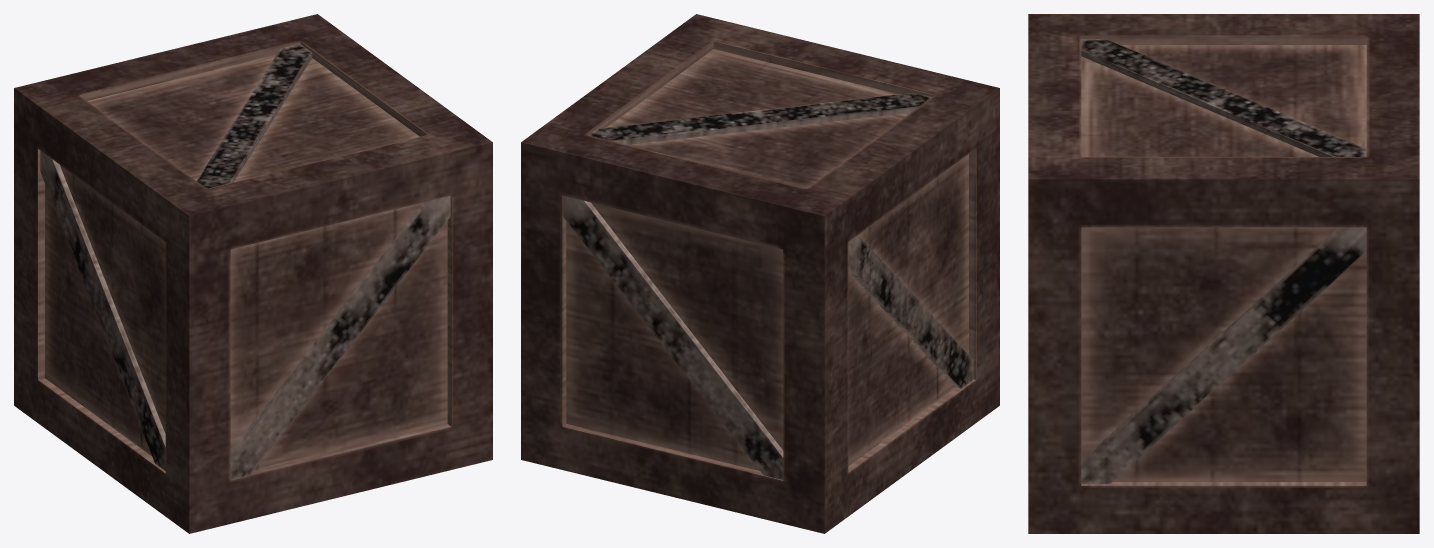
The model's file is Wooden Box adv.fbx.
The picture shows the model from 3 angles, left to right: view 1: azimuth 30°, elevation 25°; view 2: azimuth 150°, elevation 25°; view 3: azimuth 270°, elevation 25°; orthographic projection. The views are drawn at different scales.
Parts seen in each view (by area): view 1: Wooden Box adv.; view 2: Wooden Box adv.; view 3: Wooden Box adv..
Part boxes in pixels (<box>): Wooden Box adv.: <box>14,14,492,533</box>; Wooden Box adv.: <box>521,14,999,533</box>; Wooden Box adv.: <box>1028,14,1419,533</box>.
Size of the model in its own units: 21 by 21 by 21.
Materials: 2 (2 with a texture image).
